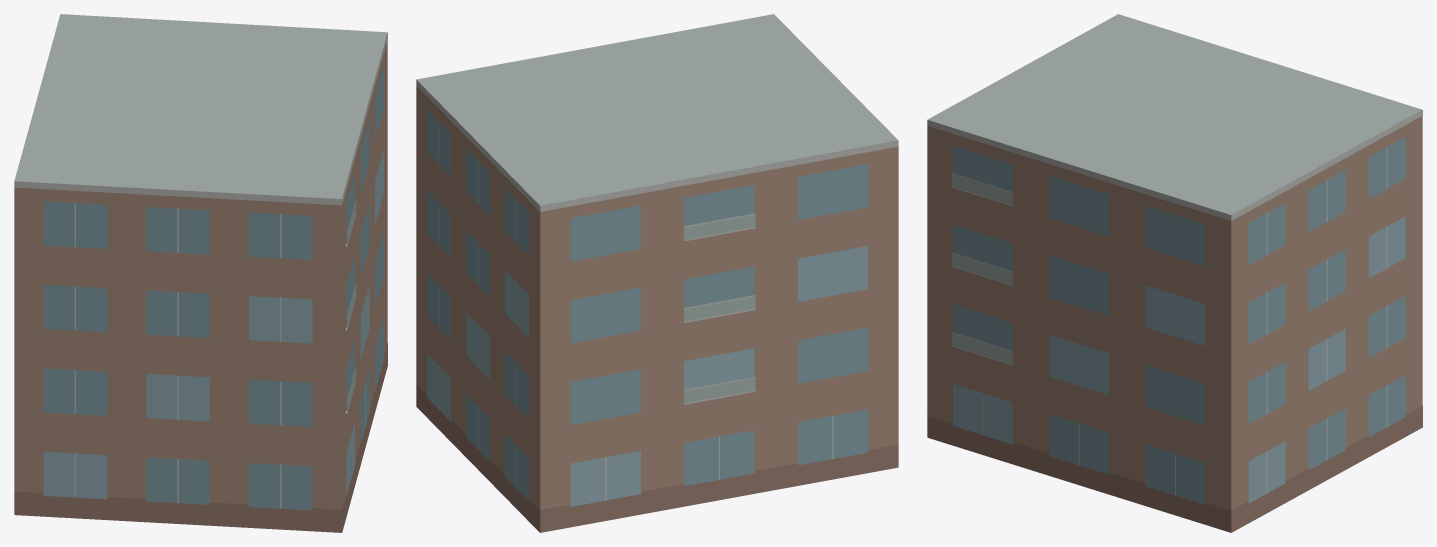
The model's file is survey-upis-32638143.glb.
3 views of the same model, side by side, from view 1: azimuth 30°, elevation 25°; view 2: azimuth 150°, elevation 25°; view 3: azimuth 270°, elevation 25° (orthographic). The views are drawn at different scales.
Parts seen in each view (by area): view 1: survey-upis-32638143.tmp; view 2: survey-upis-32638143.tmp; view 3: survey-upis-32638143.tmp.
Boxes of the visible parts, box(x1,y1,x2,y2) form: survey-upis-32638143.tmp: box(14, 14, 387, 532); survey-upis-32638143.tmp: box(416, 14, 898, 532); survey-upis-32638143.tmp: box(927, 14, 1422, 532).
Size of the model in its own units: 17.65 by 13 by 18.38.
